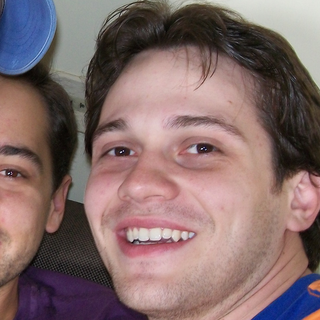eye: (179, 138, 227, 163), (98, 140, 141, 164), (1, 163, 30, 182)
